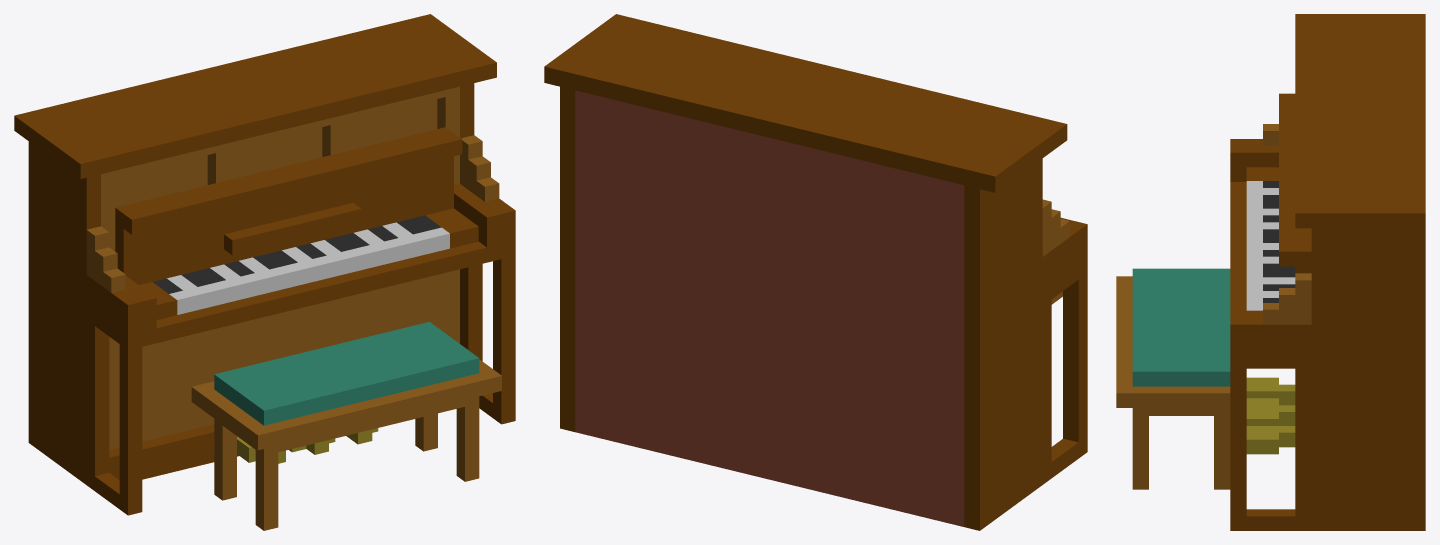
Rendered from Piano.gltf.
The picture shows the model from 3 angles, left to right: view 1: azimuth 30°, elevation 25°; view 2: azimuth 150°, elevation 25°; view 3: azimuth 270°, elevation 25°; orthographic projection. The views are drawn at different scales.
Visible parts, largest first — view 1: Piano, Piano.Stool, Piano.Lid, Piano.Keys, Piano.Pedals; view 2: Piano; view 3: Piano, Piano.Stool, Piano.Keys, Piano.Lid, Piano.Pedals.
Part boxes in pixels (x1,y1,x2,y2): Piano: [14, 14, 515, 515]; Piano.Stool: [191, 322, 501, 530]; Piano.Lid: [115, 127, 462, 273]; Piano.Keys: [153, 215, 449, 314]; Piano.Pedals: [237, 428, 378, 463]; Piano: [544, 14, 1087, 530]; Piano: [1230, 14, 1425, 530]; Piano.Stool: [1116, 268, 1230, 489]; Piano.Keys: [1246, 181, 1295, 310]; Piano.Lid: [1279, 93, 1311, 273]; Piano.Pedals: [1246, 377, 1295, 454].
Size of the model in its own units: 29 by 22 by 19.
